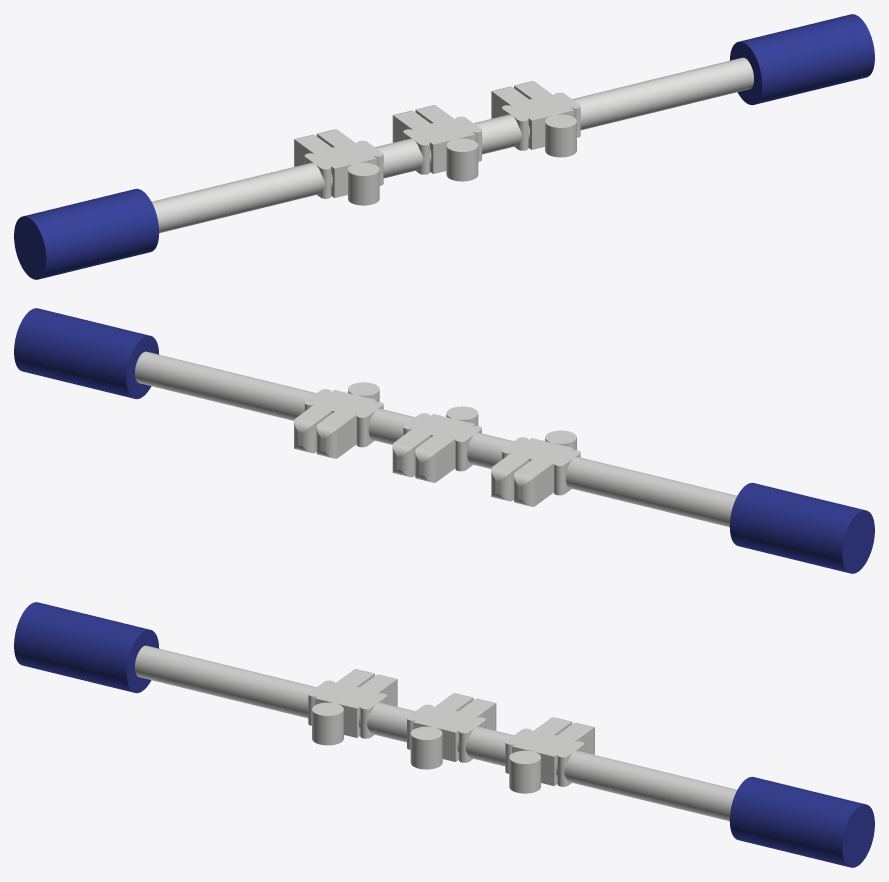
The model's file is FOOSE_stick v5.fbx.
3 views of the same model, one above another, from view 1: azimuth 30°, elevation 25°; view 2: azimuth 150°, elevation 25°; view 3: azimuth 330°, elevation 25° (orthographic).
Visible parts, largest first — view 1: Body2, Body3, Body4; view 2: Body2, Body3, Body4; view 3: Body2, Body4, Body3.
Boxes of the visible parts, bbox=[...] form: Body2: bbox=[152, 57, 753, 232]; Body3: bbox=[14, 188, 159, 279]; Body4: bbox=[729, 14, 874, 105]; Body2: bbox=[135, 351, 736, 526]; Body3: bbox=[729, 482, 874, 573]; Body4: bbox=[14, 308, 159, 399]; Body2: bbox=[135, 645, 736, 820]; Body4: bbox=[729, 776, 874, 867]; Body3: bbox=[14, 602, 159, 693].
Size of the model in its own units: 29.4 by 2 by 3.69.
